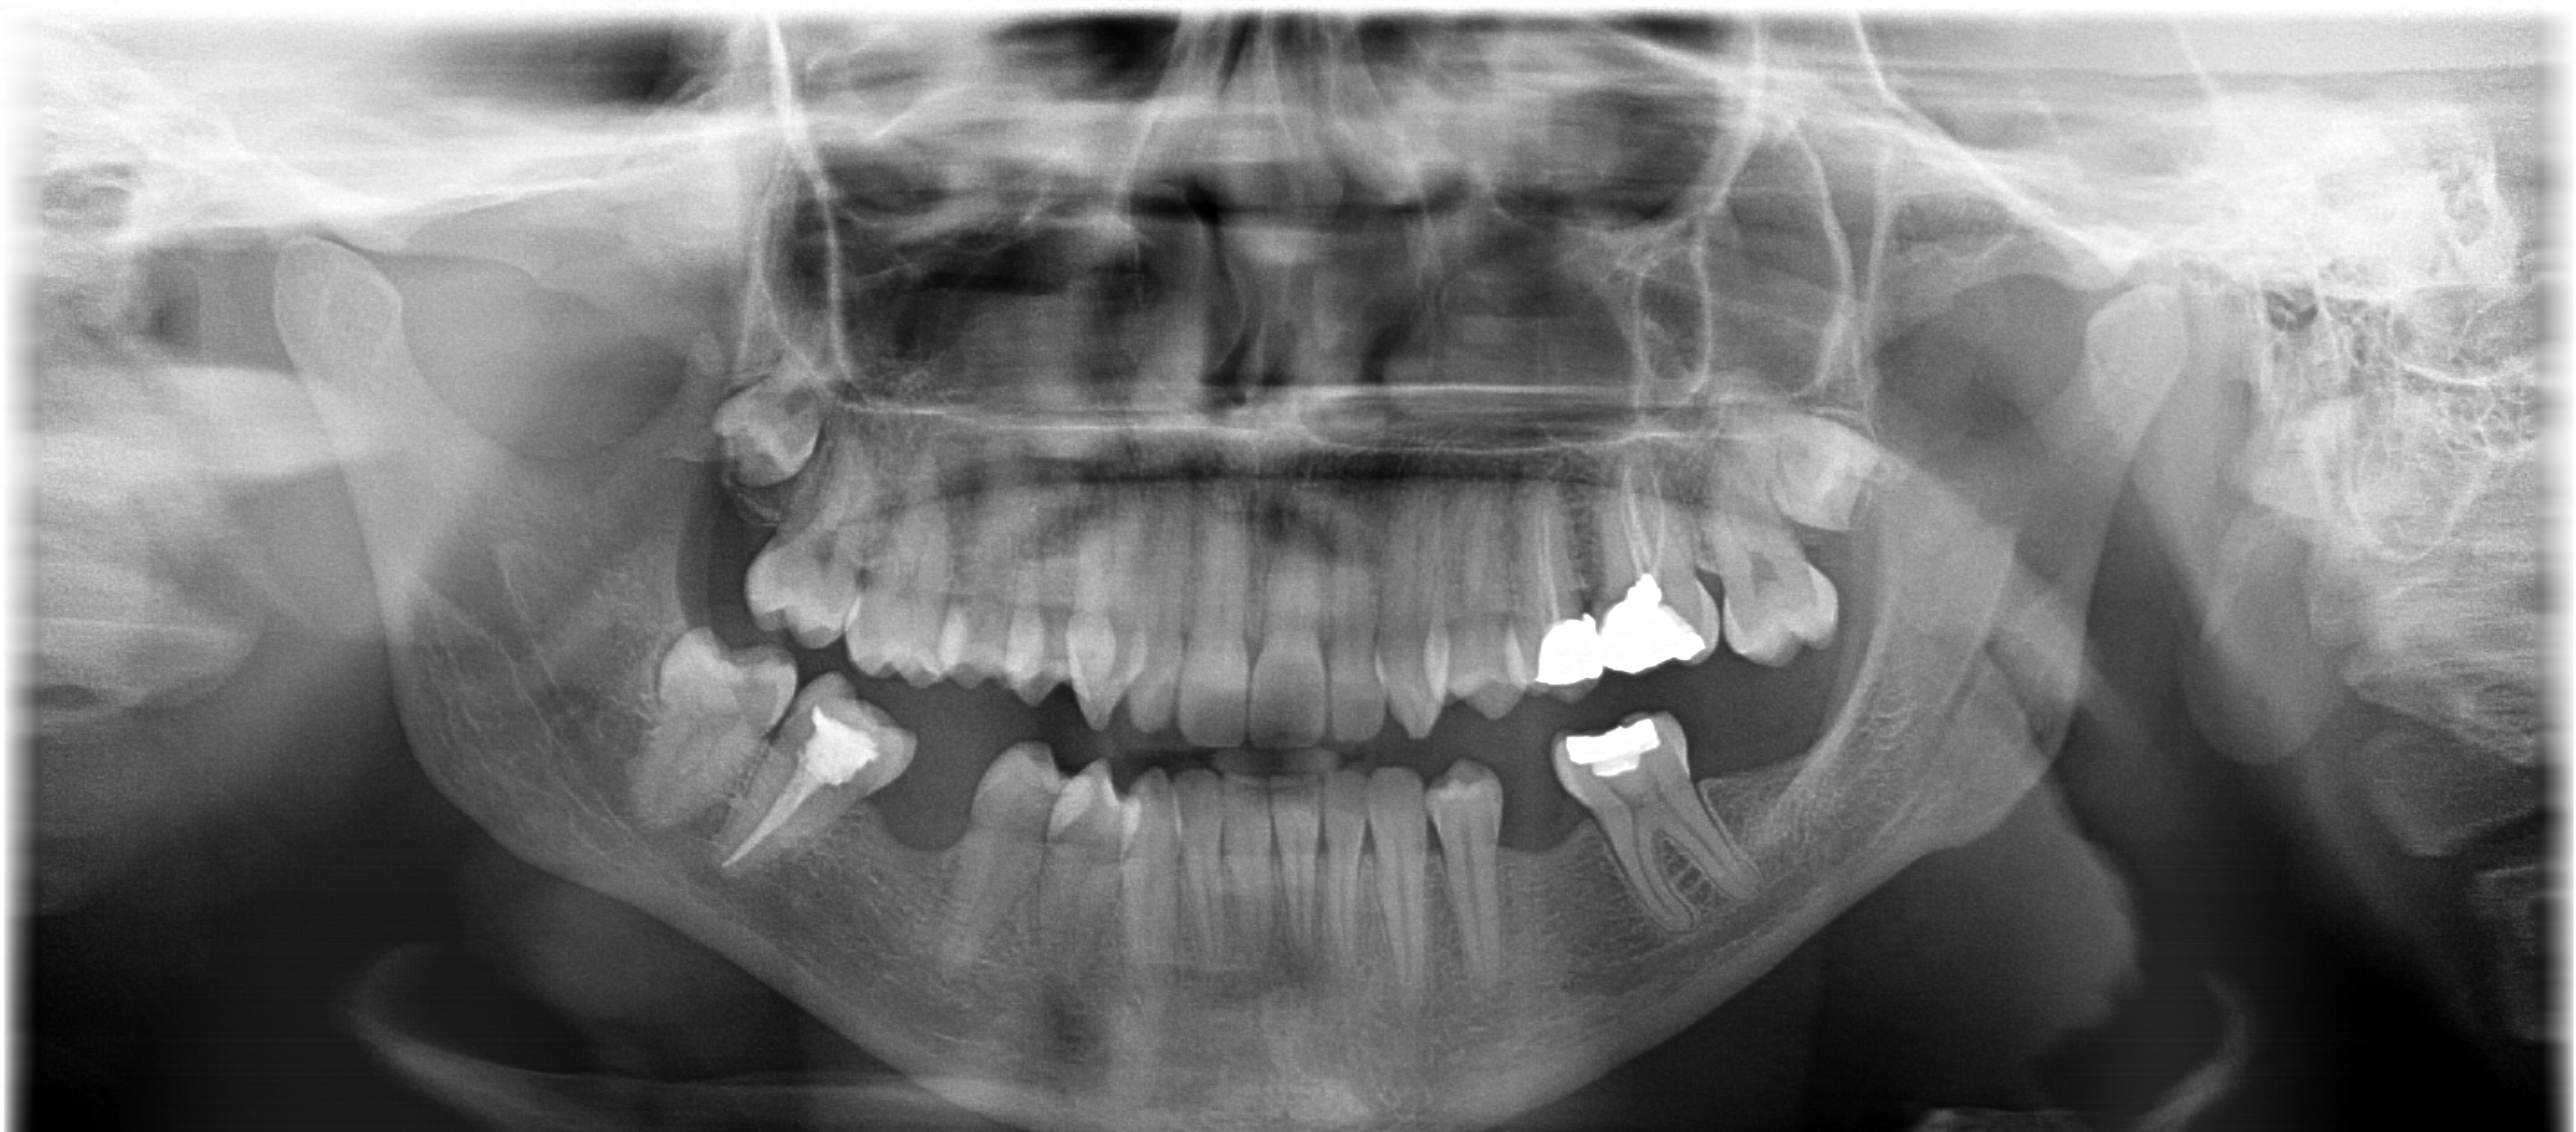cordal: (611, 585, 816, 853), (664, 334, 876, 522), (1741, 378, 1917, 557)
tratamiento_conducto: (734, 652, 925, 917)
zona_dentula: (1469, 728, 1631, 956), (869, 688, 1019, 930)
